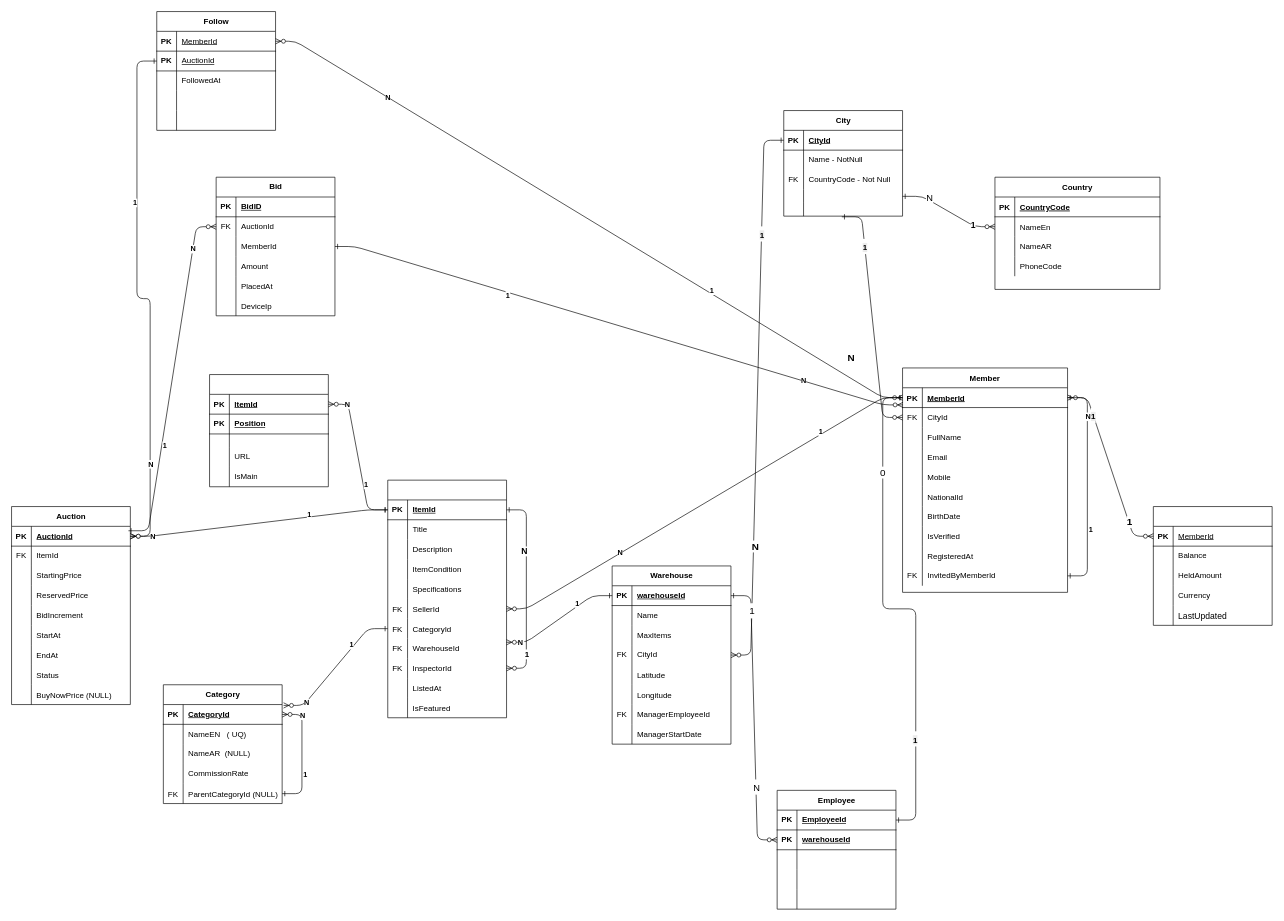
Some shapes in this 1284 by 921 pixel diagram are drawn without their labels. Each missing label, with the box of its shape:
ITEMS: (387, 479, 507, 718)
Photo: (209, 374, 328, 487)
WALLET: (1153, 506, 1272, 625)
